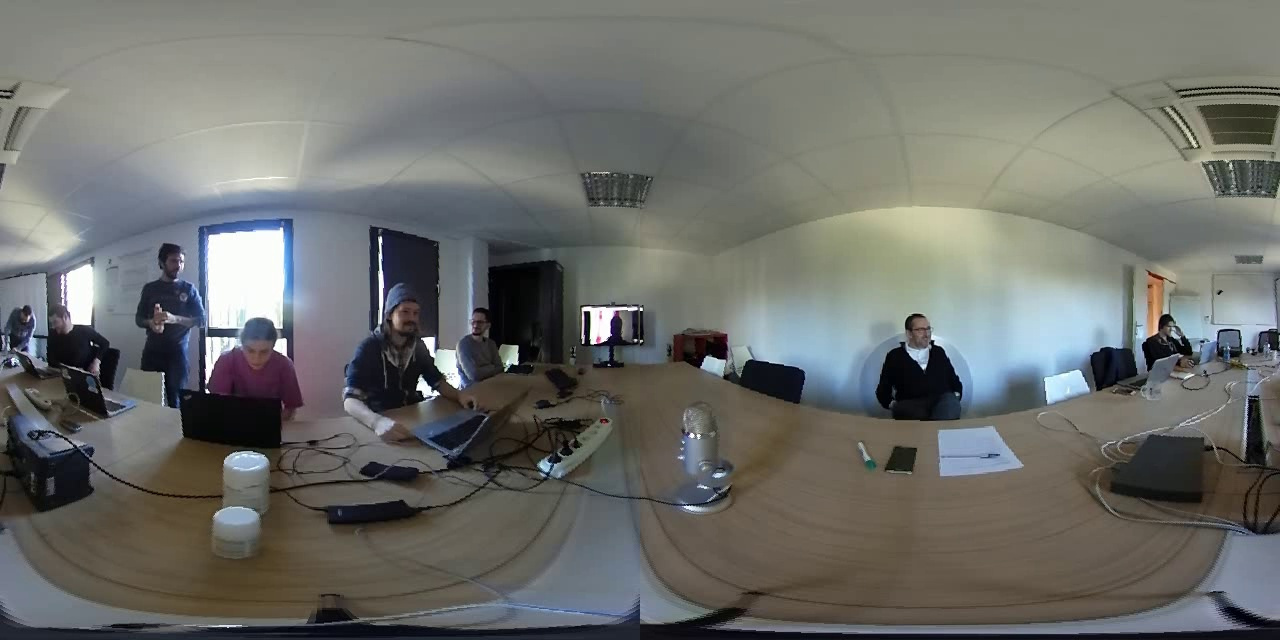person: (345, 273, 434, 427), (132, 233, 204, 380), (878, 307, 963, 418), (217, 304, 287, 401), (41, 304, 105, 379), (455, 300, 514, 379), (1138, 304, 1193, 371), (588, 304, 643, 345), (2, 300, 38, 350)
